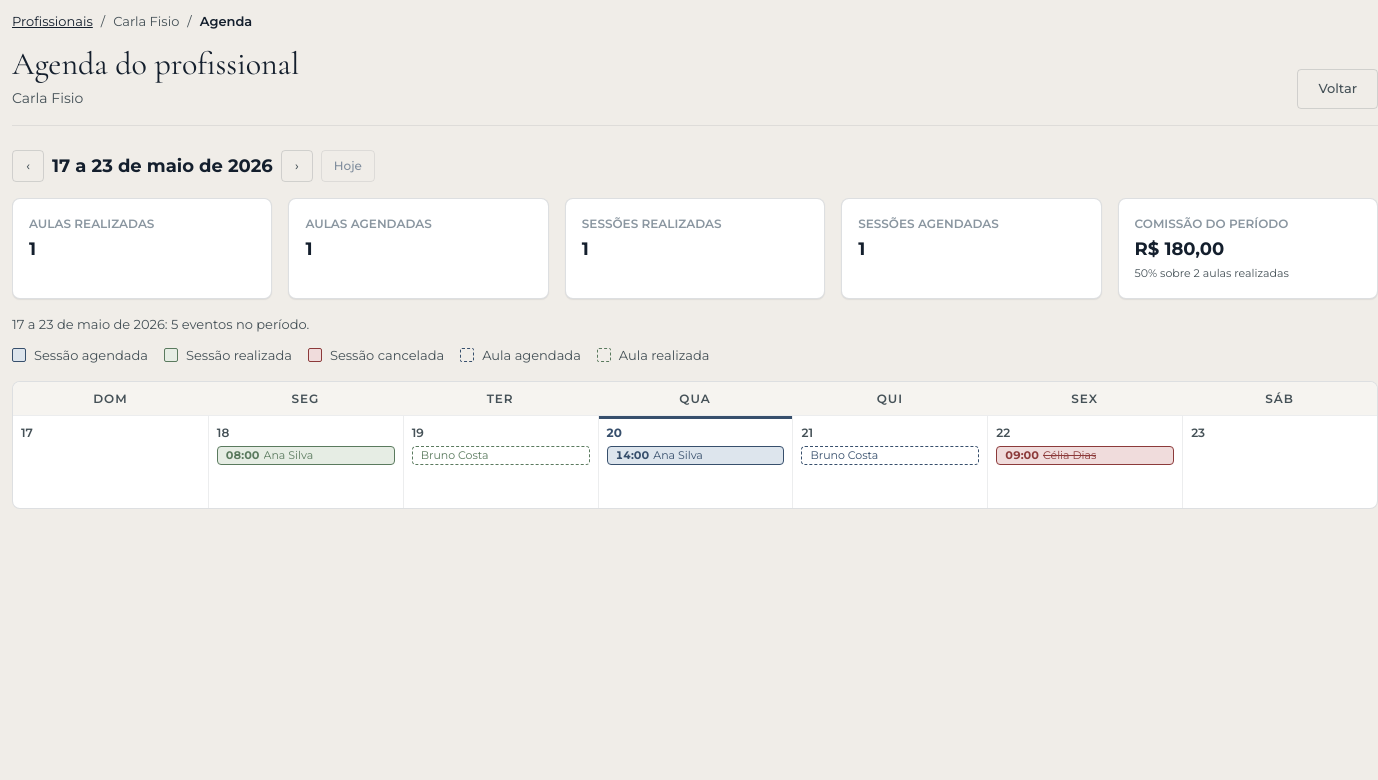
ProfissionalAgendaComponent › should load the next week when navigating forward
This screenshot has width=1378, height=780.
Click the button named "Próxima semana" at (297,166), box [281,150,313,182]
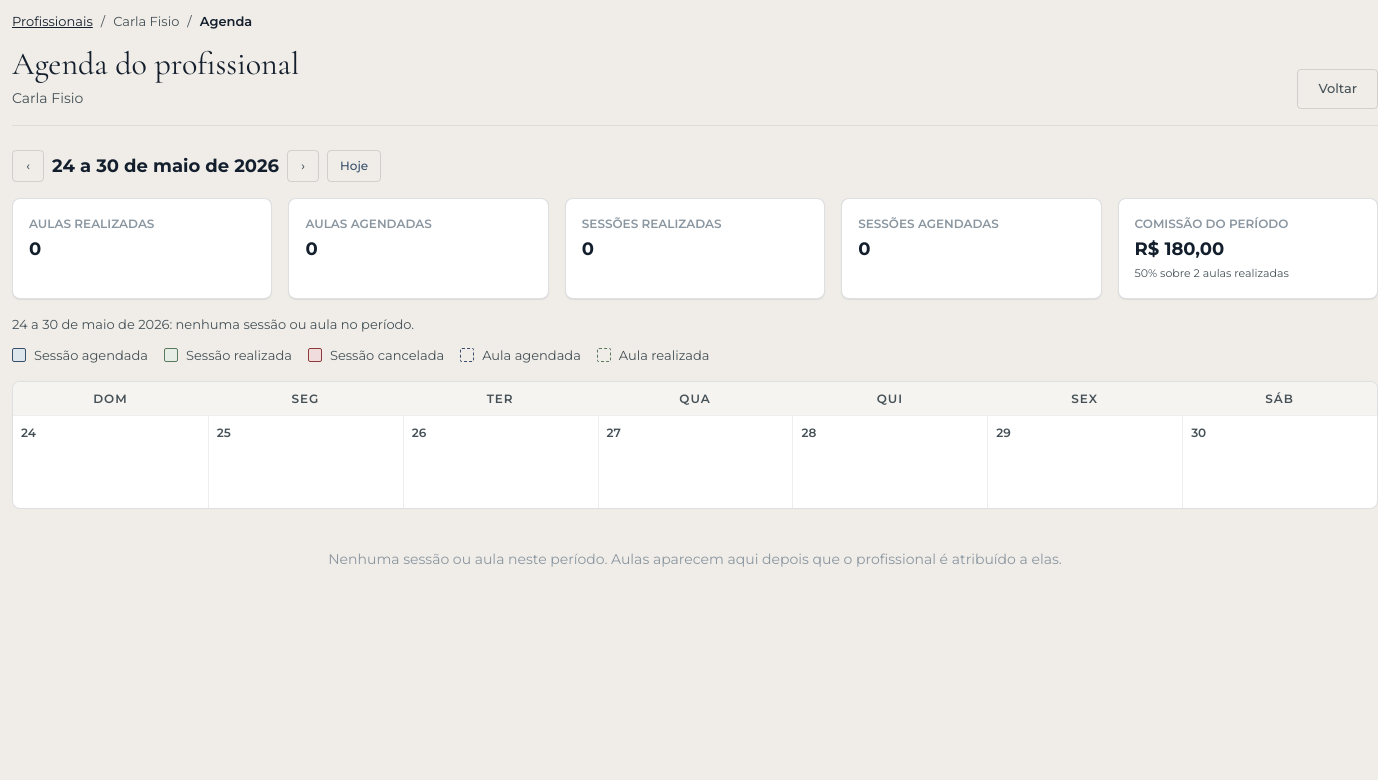
Check: the heading with class "calendario-titulo" reads "24 a 30 de maio de 2026", box [52,155,279,177]
